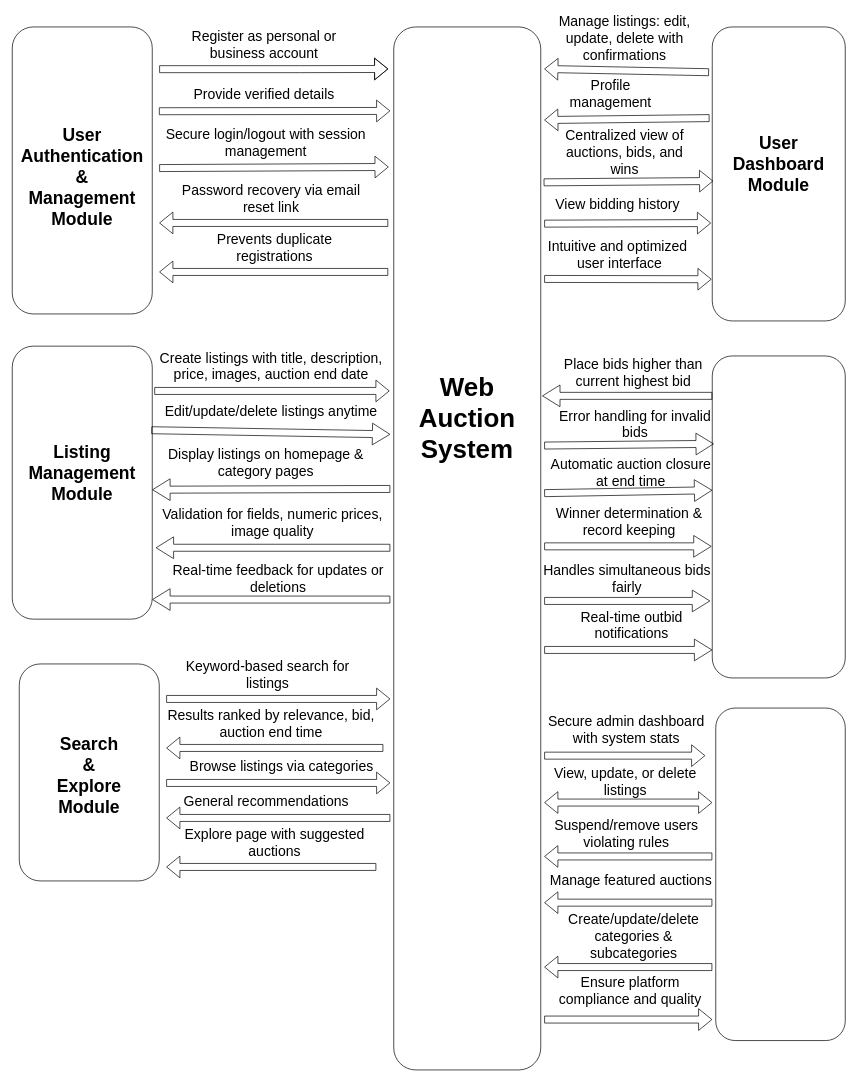
This 858x1082 diagram has some shape labels left out. Here are the shapes that lost their labels. From the top down, the centre of each, then its label:
At [778,516]: "Auction / Bidding Module".
At [780,874]: "Admin Module".
